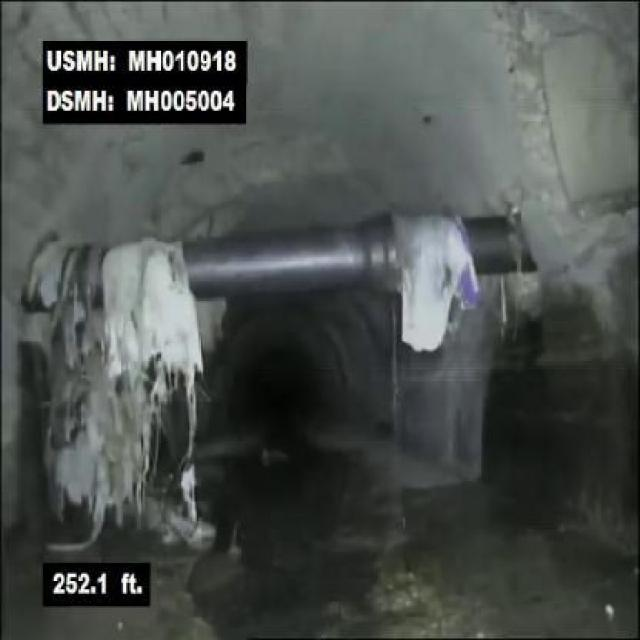Crack: (537, 43, 580, 217)
Utility intrusion: (14, 208, 546, 320)
